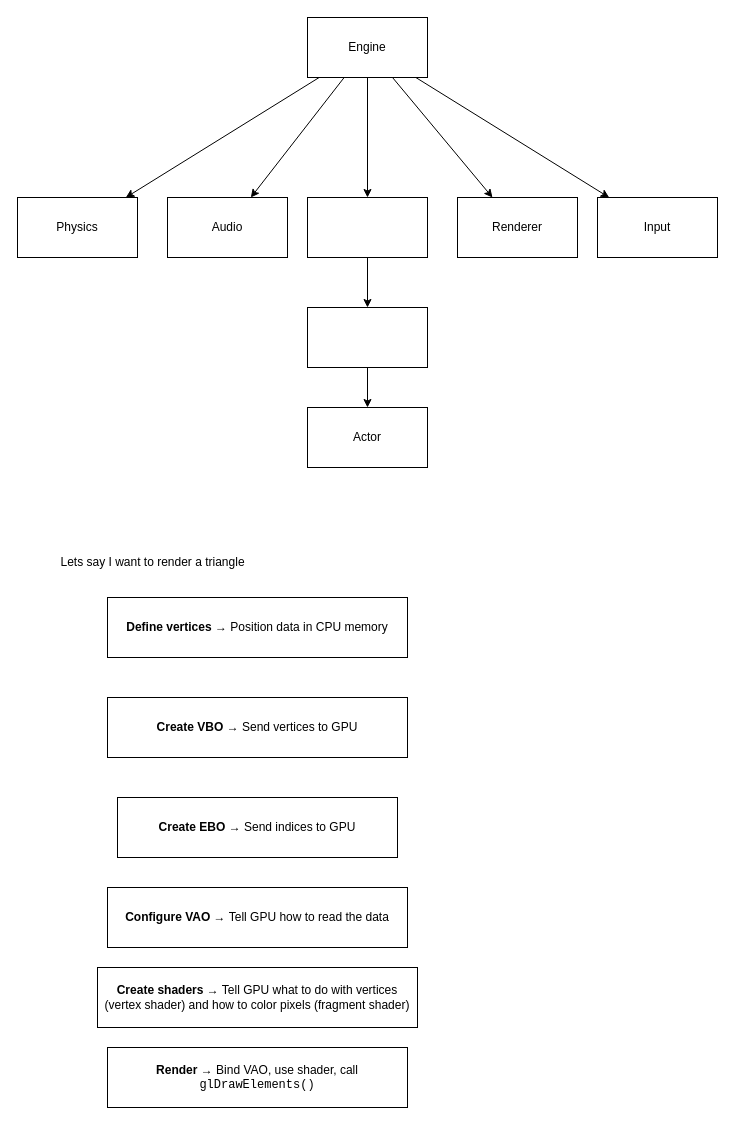
This 735x1125 diagram has some shape labels left out. The centre of each missing label's shape, as x and y in pixels:
"Game" goes at point (367, 227).
"Level" goes at point (367, 337).
